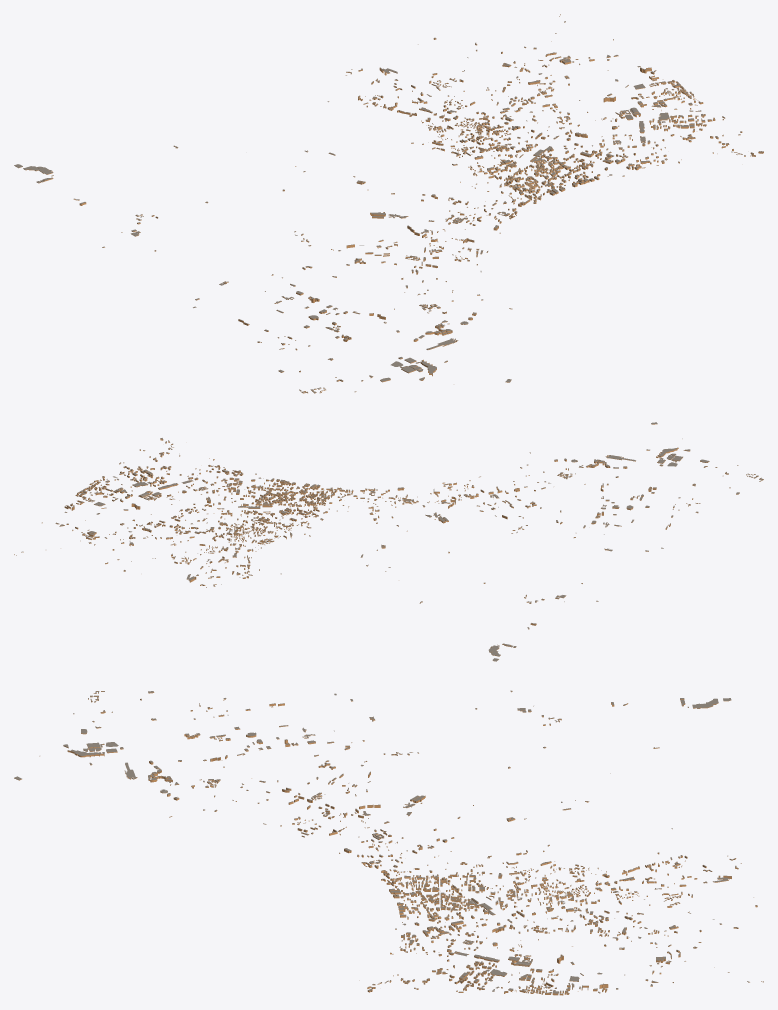
The model's file is nice_buildings_v2.glb.
The picture shows the model from 3 angles, top to bottom: view 1: azimuth 30°, elevation 25°; view 2: azimuth 150°, elevation 25°; view 3: azimuth 270°, elevation 25°; orthographic projection. The views are drawn at different scales.
Bounding box in the file's own units: 8980 × 257 × 9326.
